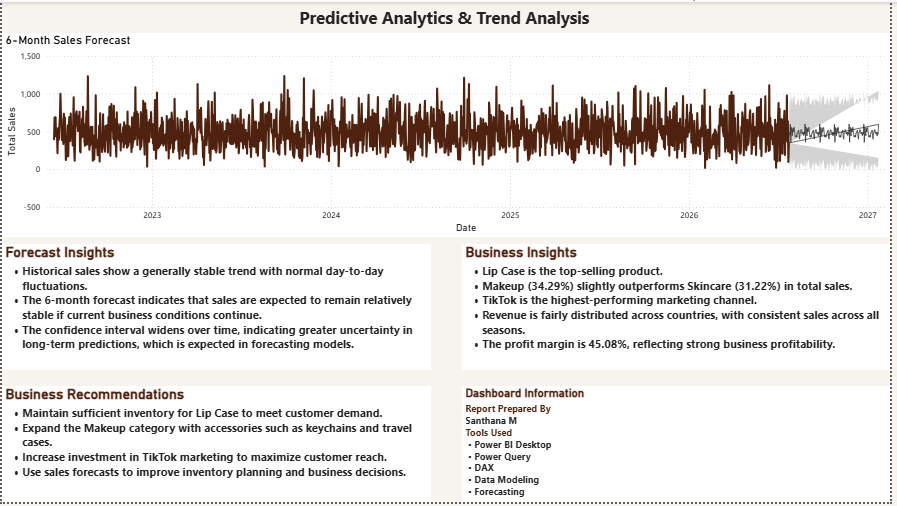

The dashboard page shown, as its layout file describes it:
{"tool":"powerbi","page":{"name":"Page 2","canvas":[1280,720],"ordinal":1},"visuals":[{"type":"textbox","box":[0,0,1280.2,44.6],"z":0},{"type":"lineChart","title":"6-Month Sales Forecast","fields":{"Y":["defaultdb rhode_sales.Total Sales"],"Category":["DateTable.Date"]},"box":[0,44.6,1280.2,293.8],"z":1000},{"type":"textbox","title":"Forecast Insights","box":[0,348.5,617.8,181.4],"z":2000},{"type":"textbox","title":"Business Insights","box":[662.4,348.5,617.8,181.4],"z":3000},{"type":"textbox","title":"Business Recommendations","box":[0,553,617.8,167],"z":4000},{"type":"textbox","title":"Dashboard Information","box":[662.4,553,617.8,167],"z":4001}]}

Visuals, with their boxes in screenshot pixels (x1, y1, x2, y2), scaled from the page's 1280x720 canvas onto the 897x506 screenshot:
textbox: [0, 0, 896, 31]
"6-Month Sales Forecast" lineChart: [0, 31, 896, 238]
"Forecast Insights" textbox: [0, 245, 433, 372]
"Business Insights" textbox: [464, 245, 896, 372]
"Business Recommendations" textbox: [0, 389, 433, 505]
"Dashboard Information" textbox: [464, 389, 896, 505]
